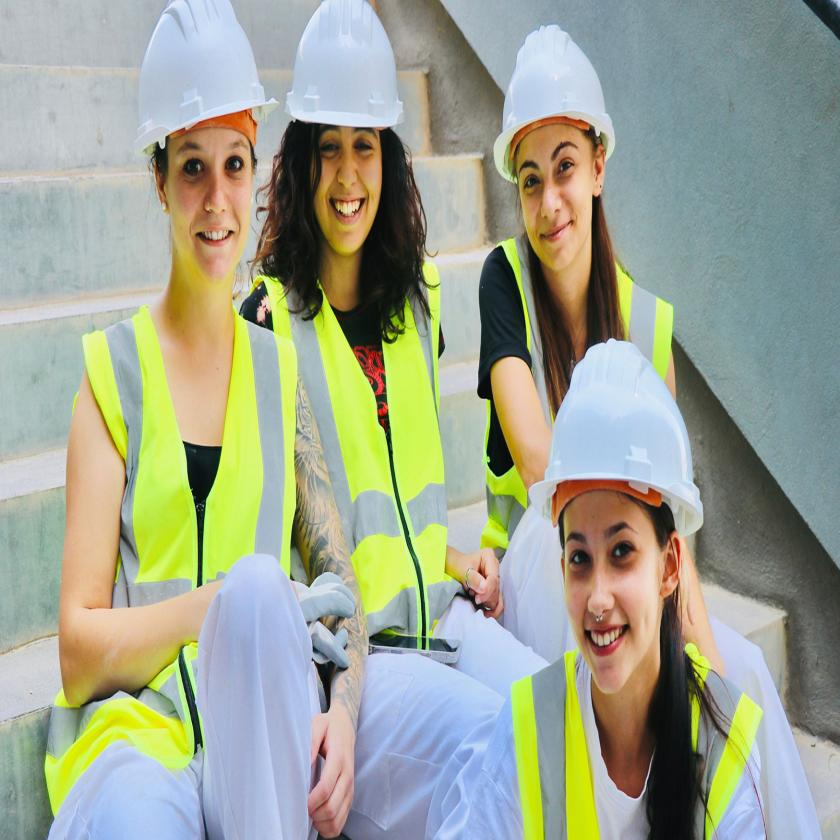Con_casco: (544, 336, 706, 713), (138, 0, 277, 289), (289, 0, 405, 289), (493, 24, 618, 277)
